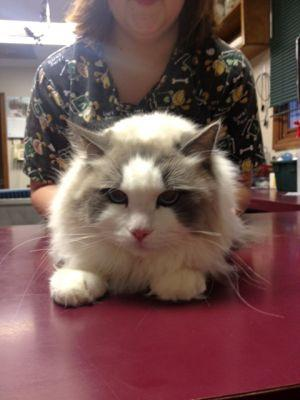ragdoll: (54, 108, 236, 285)
